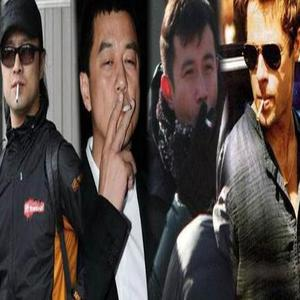cigarette: (255, 99, 262, 121), (15, 82, 20, 104), (203, 118, 212, 128), (123, 104, 132, 112)
